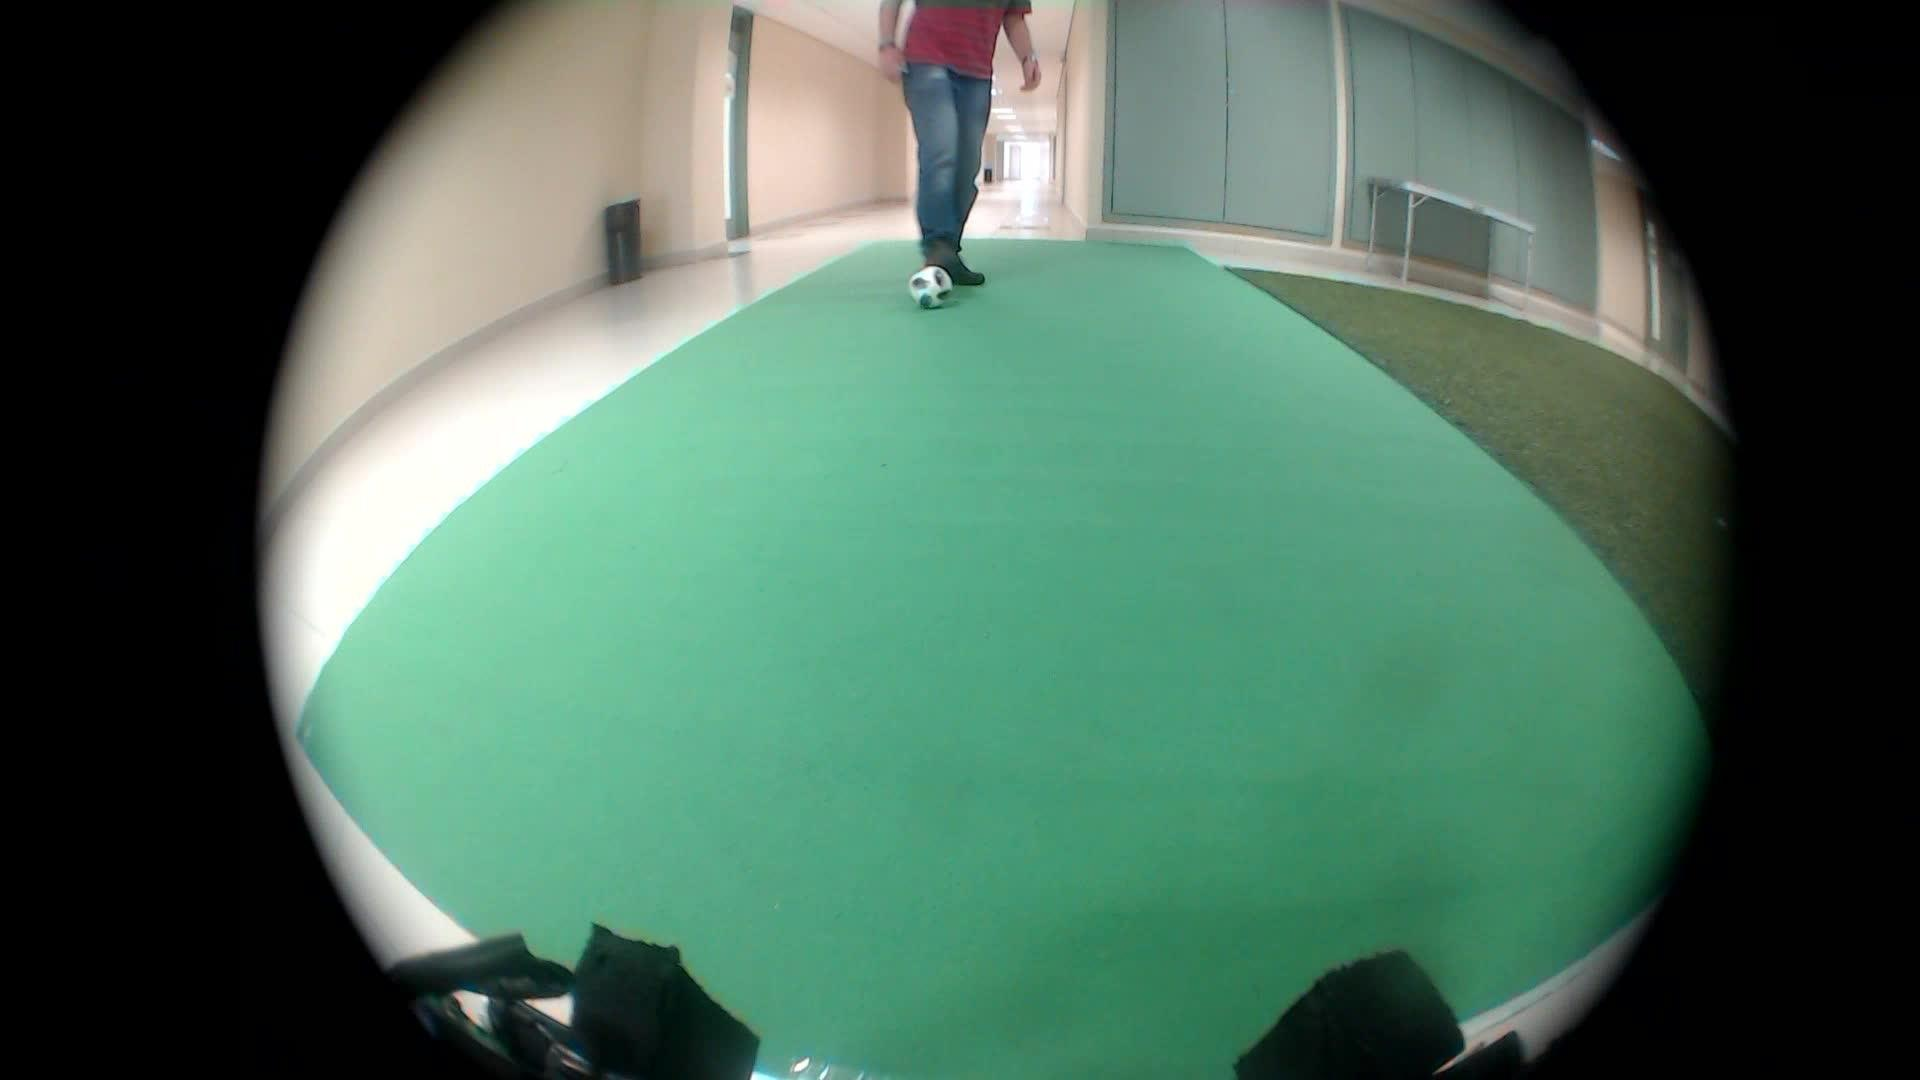ball: (899, 251, 960, 313)
